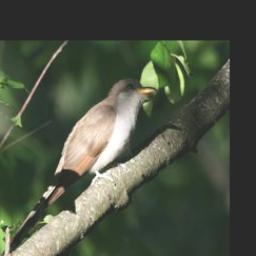Cuckoo: (2, 77, 157, 256)
